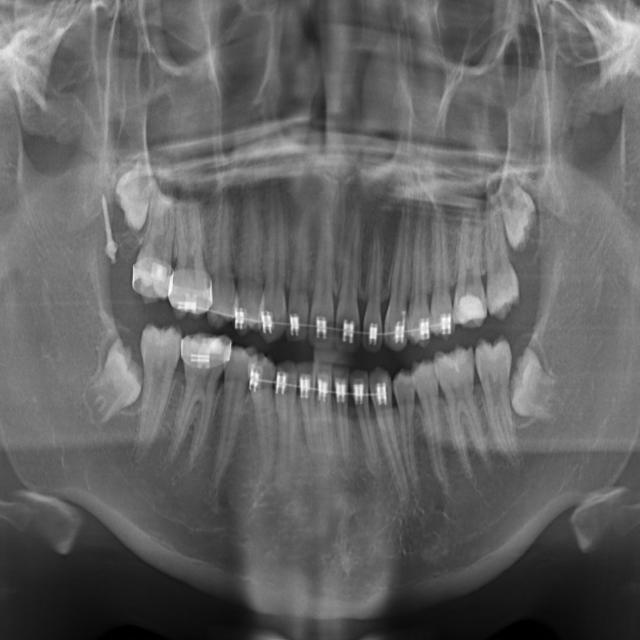CompositeResinRestoration: (454, 282, 483, 334), (439, 342, 471, 389)
ImpactedTooth: (76, 296, 153, 438)
